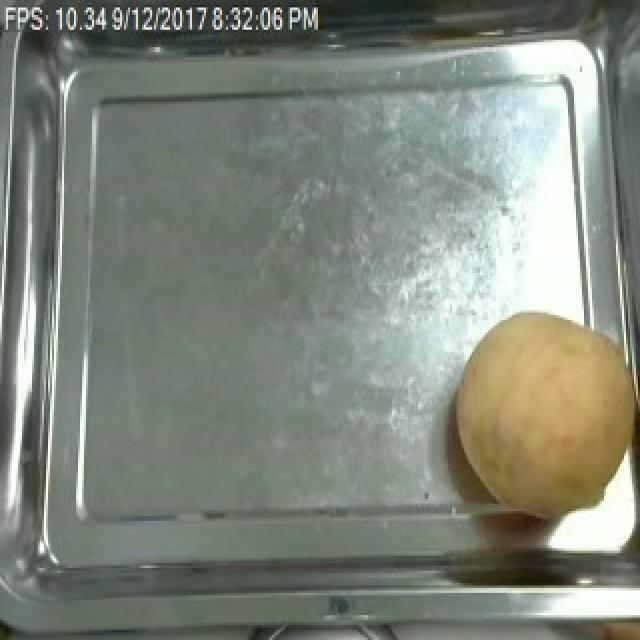Fruit: (446, 302, 640, 524)
